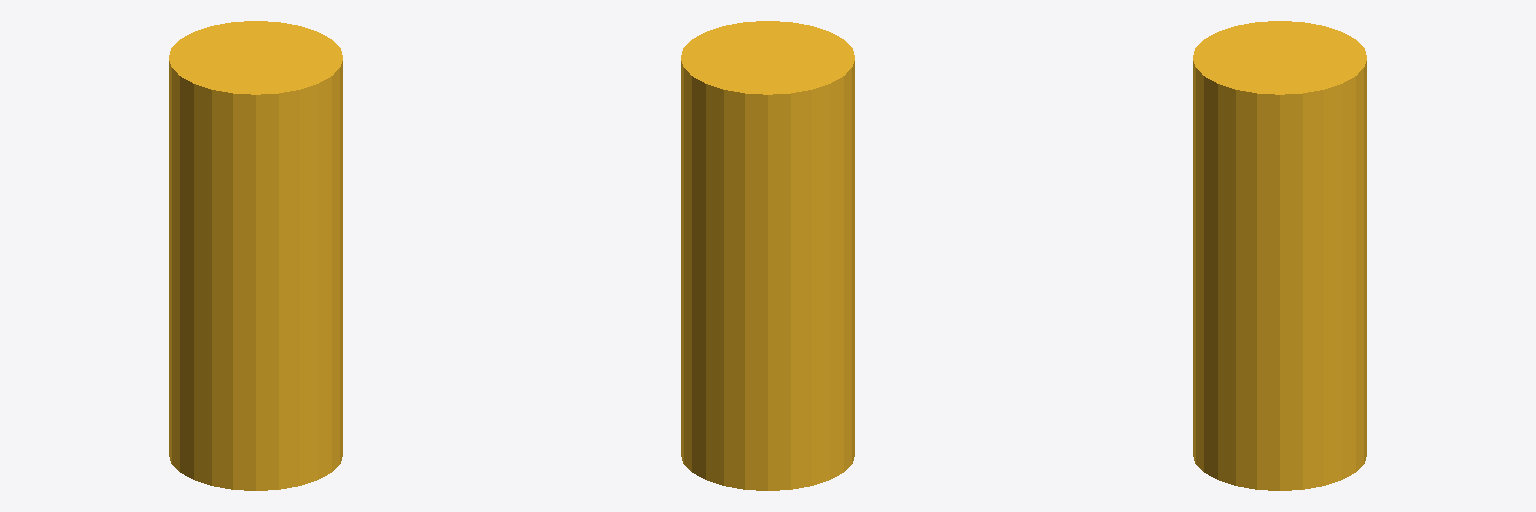
File: foamBulletA.obj
3 views of the same model, side by side, from view 1: azimuth 30°, elevation 25°; view 2: azimuth 150°, elevation 25°; view 3: azimuth 270°, elevation 25° (orthographic).
Visible parts, largest first — view 1: foamBulletA; view 2: foamBulletA; view 3: foamBulletA.
Part boxes in pixels (x1,y1,x2,y2): foamBulletA: (169, 21, 342, 490); foamBulletA: (681, 21, 854, 490); foamBulletA: (1193, 21, 1366, 490).
Size of the model in its own units: 0.02 by 0.05 by 0.02.